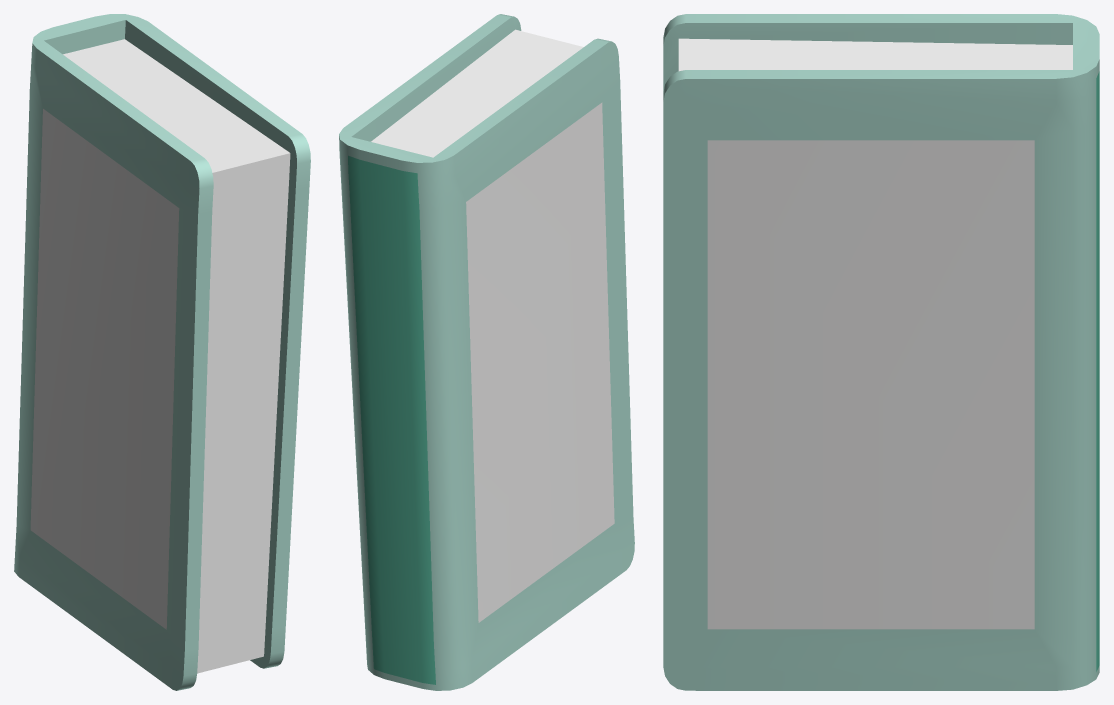
Rendered from book_4.fbx.
3 views of the same model, side by side, from view 1: azimuth 30°, elevation 25°; view 2: azimuth 150°, elevation 25°; view 3: azimuth 270°, elevation 25° (orthographic). The views are drawn at different scales.
Visible parts, largest first — view 1: book_4; view 2: book_4; view 3: book_4.
Part boxes in pixels (bbox=[...]): book_4: bbox=[14, 14, 310, 690]; book_4: bbox=[339, 14, 634, 690]; book_4: bbox=[663, 14, 1099, 690].
Bounding box in the file's own units: 0.095 × 0.3684 × 0.231.
